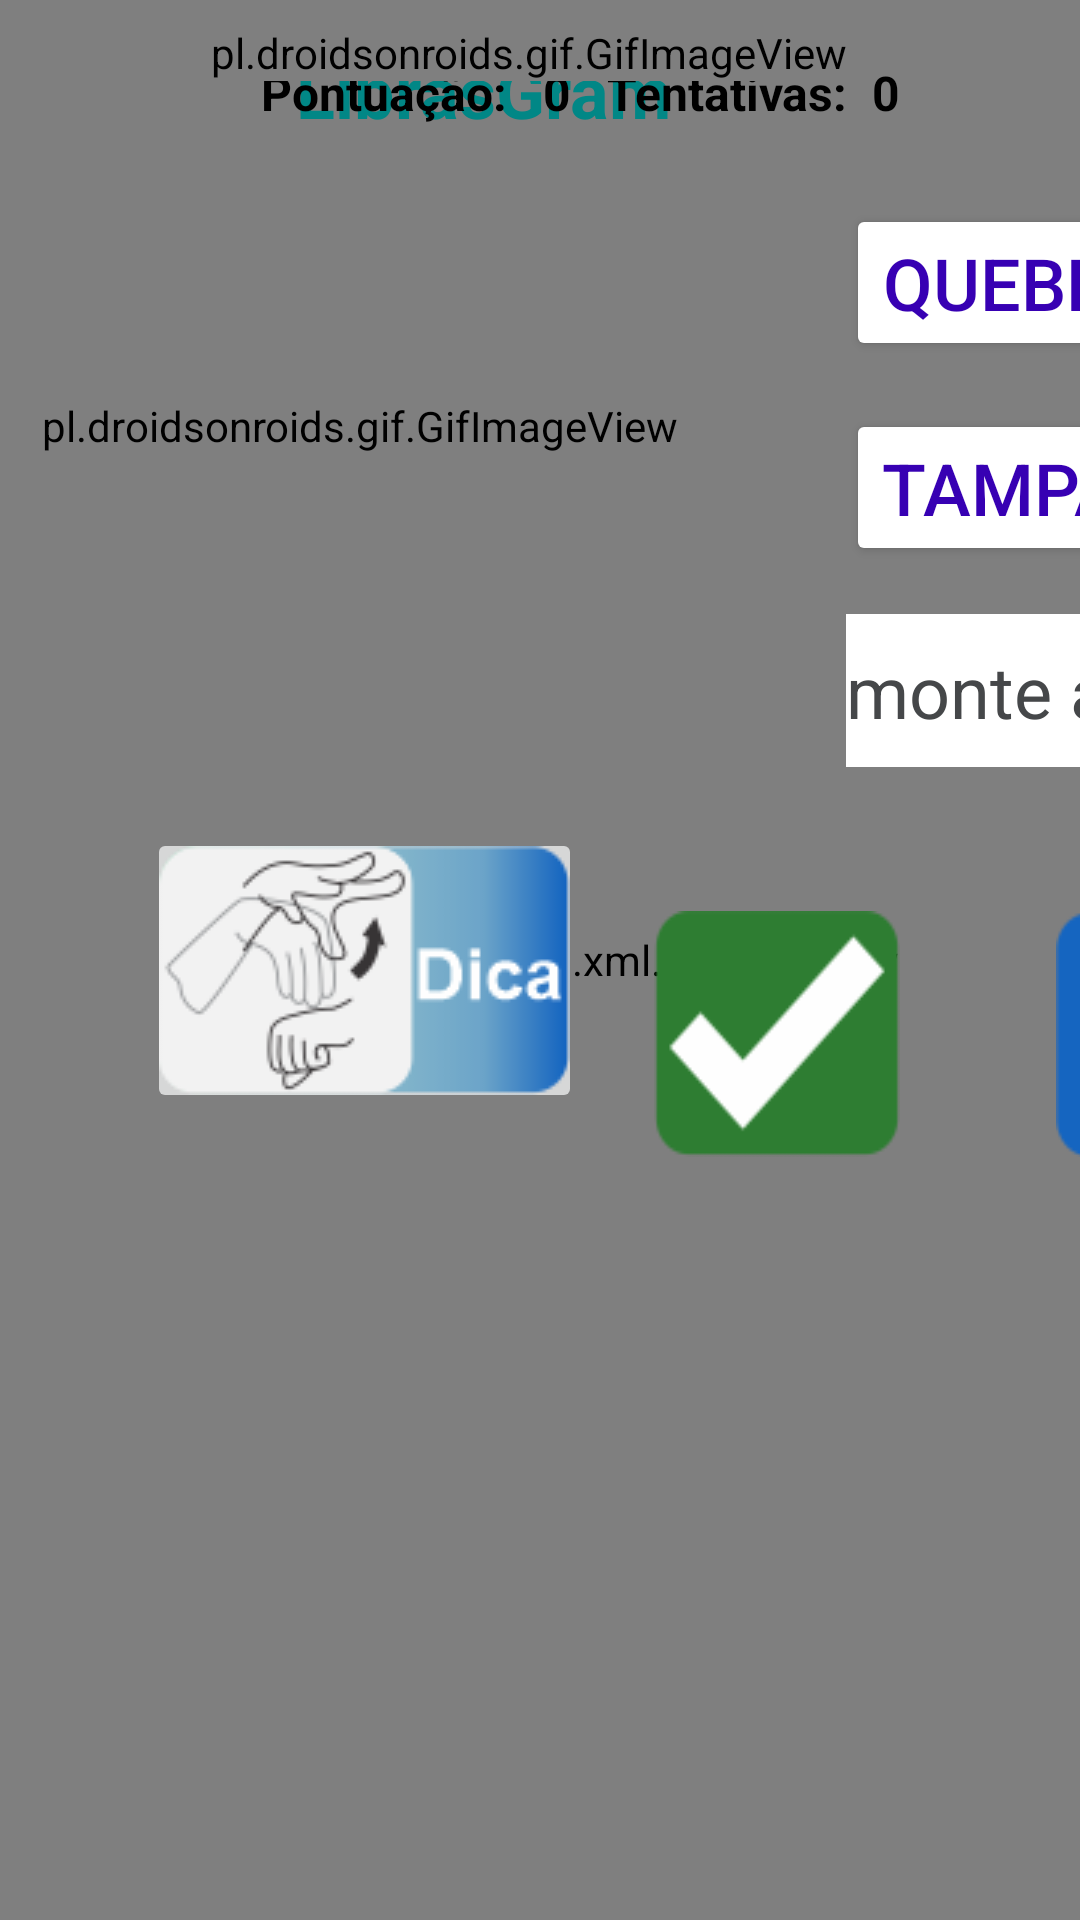

Point at icon controls on the screen. Image size 1080 × 1920, points as point (x, y).
correcao: point (776, 1033)
